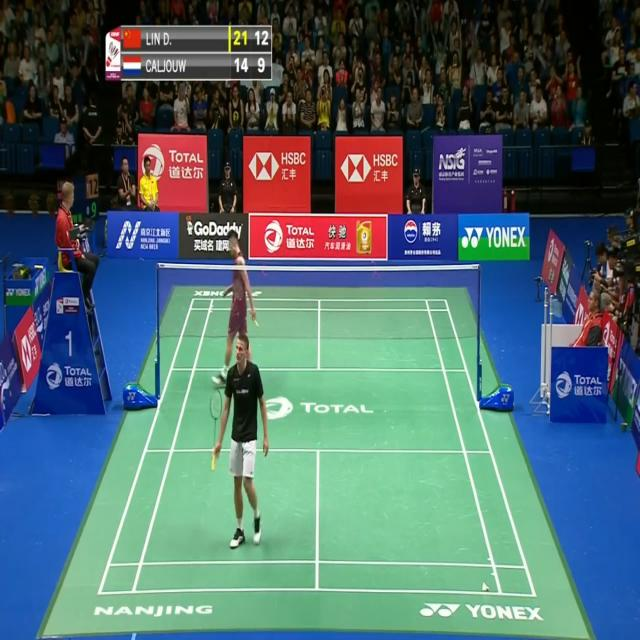Player1: (205, 326, 271, 555)
Player2: (210, 228, 264, 388)
